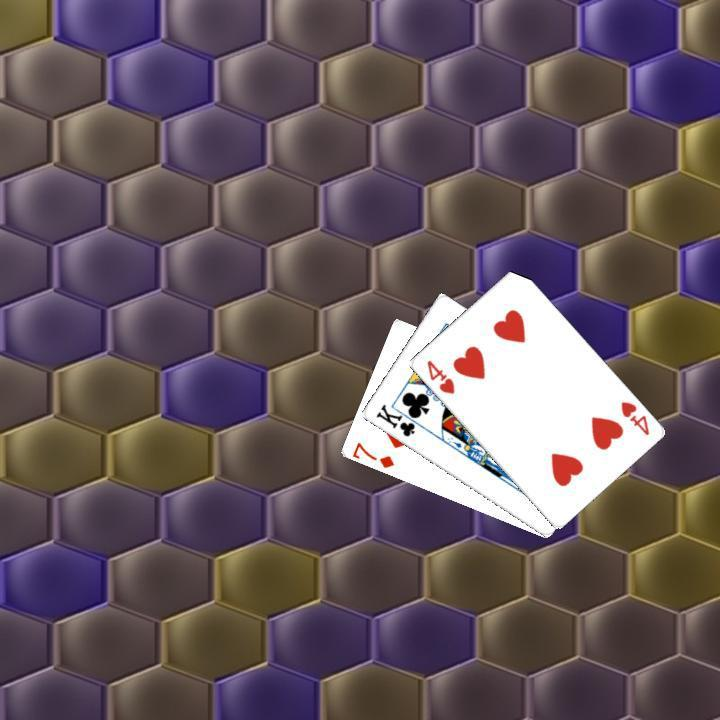4: (616, 397, 651, 437), (422, 356, 456, 396)
7: (348, 438, 396, 470)
K: (371, 400, 425, 439)
